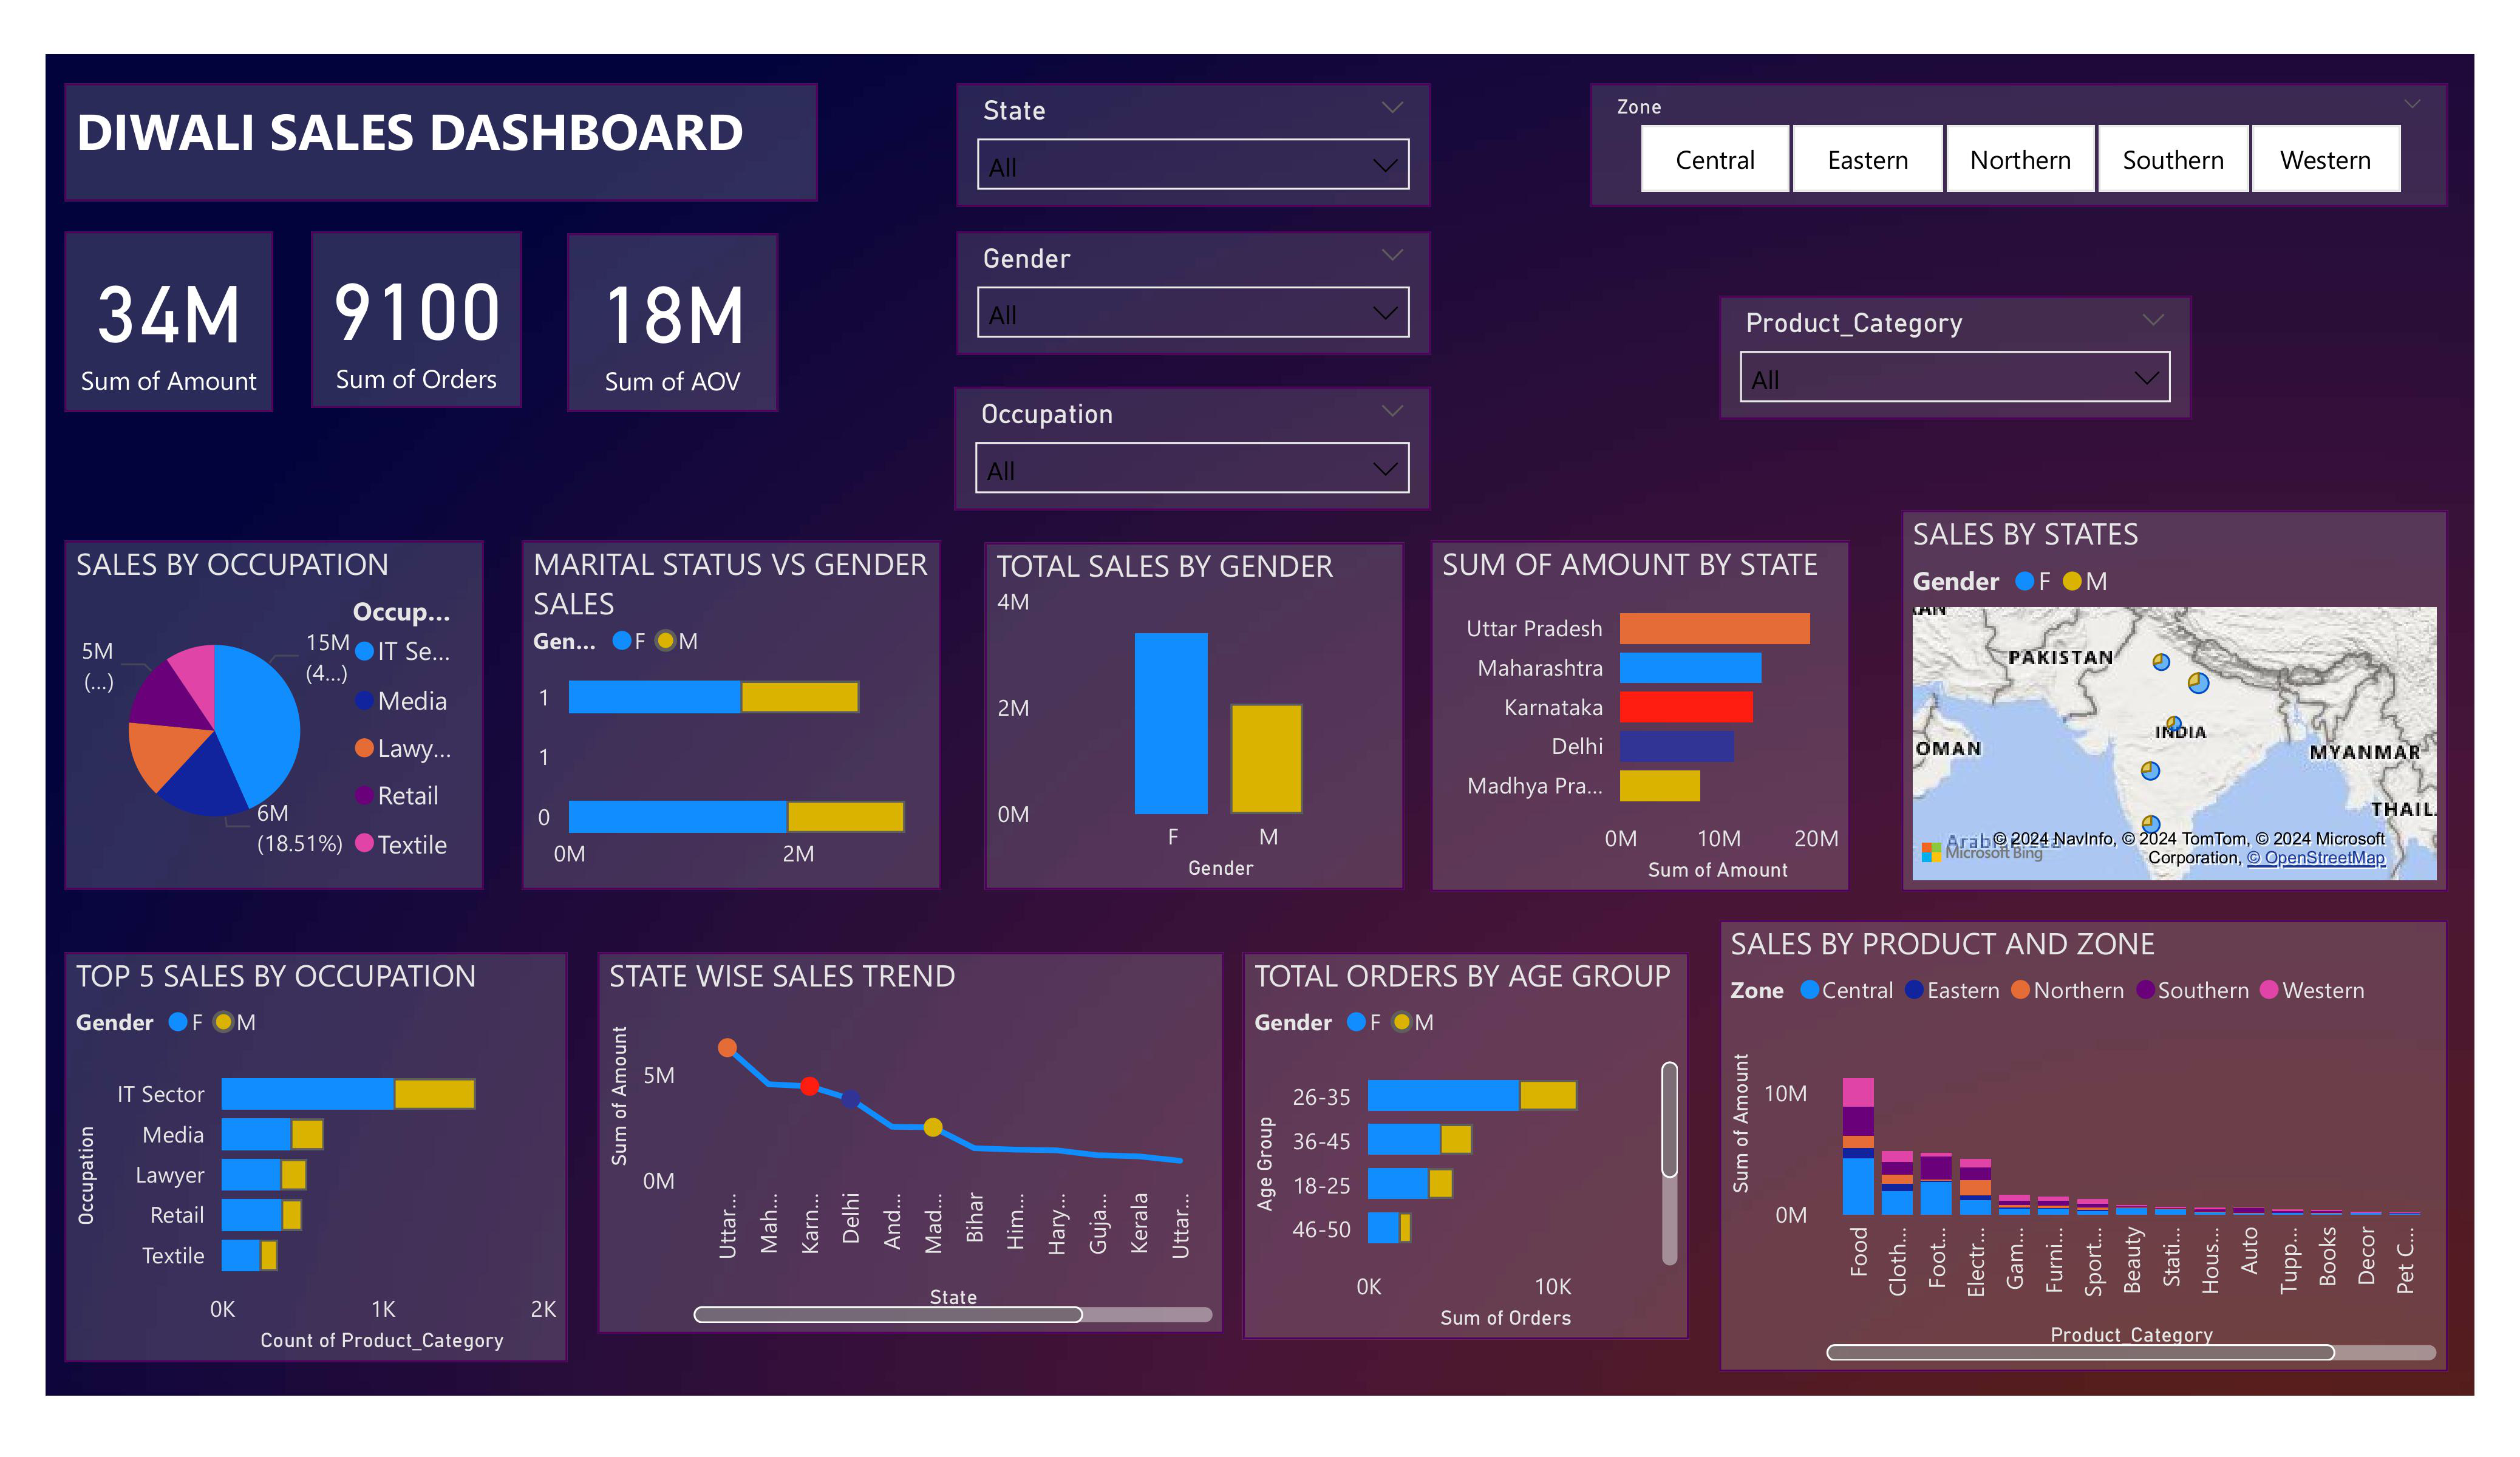

The page's visual inventory and layout, read from the dashboard file:
{"tool":"powerbi","page":{"name":"Page 1","canvas":[1280,720],"ordinal":0},"visuals":[{"type":"textbox","box":[9.9,19.8,396.9,62.4],"z":0},{"type":"barChart","title":"TOTAL ORDERS BY AGE GROUP","fields":{"Y":["Sum(Cleaned_Diwali_Sales_Data.Orders)"],"Category":["Cleaned_Diwali_Sales_Data.Age Group"],"Series":["Cleaned_Diwali_Sales_Data.Gender"]},"box":[630.7,477.6,235.3,204.1],"z":1000},{"type":"map","title":"SALES BY STATES","fields":{"Size":["Sum(Cleaned_Diwali_Sales_Data.Amount)"],"Category":["Cleaned_Diwali_Sales_Data.State"],"Series":["Cleaned_Diwali_Sales_Data.Gender"]},"box":[978,245.2,287.7,201.3],"z":2000},{"type":"barChart","title":"MARITAL STATUS VS GENDER SALES","fields":{"Category":["Cleaned_Diwali_Sales_Data.Marital_Status"],"Y":["Sum(Cleaned_Diwali_Sales_Data.Amount)"],"Series":["Cleaned_Diwali_Sales_Data.Gender"]},"box":[250.9,260.8,221.1,184.3],"z":3000},{"type":"lineChart","title":"STATE WISE SALES TREND","fields":{"Category":["Cleaned_Diwali_Sales_Data.State"],"Y":["Sum(Cleaned_Diwali_Sales_Data.Amount)"]},"box":[290.6,477.6,330.2,201.3],"z":4000},{"type":"card","title":"TOTAL SALES BY GENDER","fields":{"Values":["Sum(Cleaned_Diwali_Sales_Data.Amount)"]},"box":[9.9,97.8,110.6,95],"z":5000},{"type":"columnChart","title":"SALES BY PRODUCT AND ZONE","fields":{"Category":["Cleaned_Diwali_Sales_Data.Product_Category"],"Y":["Sum(Cleaned_Diwali_Sales_Data.Amount)"],"Series":["Cleaned_Diwali_Sales_Data.Zone"]},"box":[881.6,460.6,384.1,238.1],"z":6000},{"type":"pieChart","title":"SALES BY OCCUPATION","fields":{"Y":["Sum(Cleaned_Diwali_Sales_Data.Amount)"],"Category":["Cleaned_Diwali_Sales_Data.Occupation"]},"box":[9.9,260.8,221.1,184.3],"z":7000},{"type":"card","title":"TOTAL SALES BY GENDER","fields":{"Values":["Sum(Cleaned_Diwali_Sales_Data.Orders)"]},"box":[140.3,97.8,110.6,93.5],"z":8000},{"type":"card","title":"TOTAL SALES BY GENDER","fields":{"Values":["Sum(Cleaned_Diwali_Sales_Data.AOV)"]},"box":[275,99.2,110.6,93.5],"z":9000},{"type":"clusteredBarChart","title":"SUM OF AMOUNT BY STATE","fields":{"Category":["Cleaned_Diwali_Sales_Data.State"],"Y":["Sum(Cleaned_Diwali_Sales_Data.Amount)"]},"box":[729.9,260.8,221.1,185.7],"z":10000},{"type":"clusteredColumnChart","title":"TOTAL SALES BY GENDER","fields":{"Category":["Cleaned_Diwali_Sales_Data.Gender"],"Y":["Sum(Cleaned_Diwali_Sales_Data.Amount)"]},"box":[494.6,262.2,221.1,182.8],"z":11000},{"type":"barChart","title":"TOP 5 SALES BY OCCUPATION","fields":{"Y":["CountNonNull(Cleaned_Diwali_Sales_Data.Product_Category)"],"Category":["Cleaned_Diwali_Sales_Data.Occupation"],"Series":["Cleaned_Diwali_Sales_Data.Gender"]},"box":[9.9,477.6,265,216.9],"z":12000},{"type":"slicer","fields":{"Values":["Cleaned_Diwali_Sales_Data.State"]},"box":[480.5,19.8,249.4,65.2],"z":13000},{"type":"slicer","fields":{"Values":["Cleaned_Diwali_Sales_Data.Zone"]},"box":[813.5,19.8,452.1,65.2],"z":14000},{"type":"slicer","fields":{"Values":["Cleaned_Diwali_Sales_Data.Gender"]},"box":[480.5,97.8,249.4,65.2],"z":15000},{"type":"slicer","fields":{"Values":["Cleaned_Diwali_Sales_Data.Occupation"]},"box":[479.1,180,250.9,65.2],"z":16000},{"type":"slicer","fields":{"Values":["Cleaned_Diwali_Sales_Data.Product_Category"]},"box":[881.6,131.8,249.4,65.2],"z":17000}]}

Visuals, with their boxes in screenshot pixels (x1, y1, x2, y2):
textbox: select_region(64, 83, 817, 202)
"TOTAL ORDERS BY AGE GROUP" barChart: select_region(1242, 952, 1689, 1339)
"SALES BY STATES" map: select_region(1901, 511, 2447, 892)
"MARITAL STATUS VS GENDER SALES" barChart: select_region(522, 540, 941, 890)
"STATE WISE SALES TREND" lineChart: select_region(597, 952, 1224, 1334)
"TOTAL SALES BY GENDER" card: select_region(64, 231, 274, 412)
"SALES BY PRODUCT AND ZONE" columnChart: select_region(1718, 919, 2447, 1371)
"SALES BY OCCUPATION" pieChart: select_region(64, 540, 484, 890)
"TOTAL SALES BY GENDER" card: select_region(312, 231, 522, 409)
"TOTAL SALES BY GENDER" card: select_region(567, 234, 777, 411)
"SUM OF AMOUNT BY STATE" clusteredBarChart: select_region(1431, 540, 1850, 892)
"TOTAL SALES BY GENDER" clusteredColumnChart: select_region(984, 543, 1404, 890)
"TOP 5 SALES BY OCCUPATION" barChart: select_region(64, 952, 567, 1363)
slicer - Cleaned_Diwali_Sales_Data.State: select_region(958, 83, 1431, 207)
slicer - Cleaned_Diwali_Sales_Data.Zone: select_region(1589, 83, 2447, 207)
slicer - Cleaned_Diwali_Sales_Data.Gender: select_region(958, 231, 1431, 355)
slicer - Cleaned_Diwali_Sales_Data.Occupation: select_region(955, 387, 1431, 511)
slicer - Cleaned_Diwali_Sales_Data.Product_Category: select_region(1718, 296, 2191, 419)
